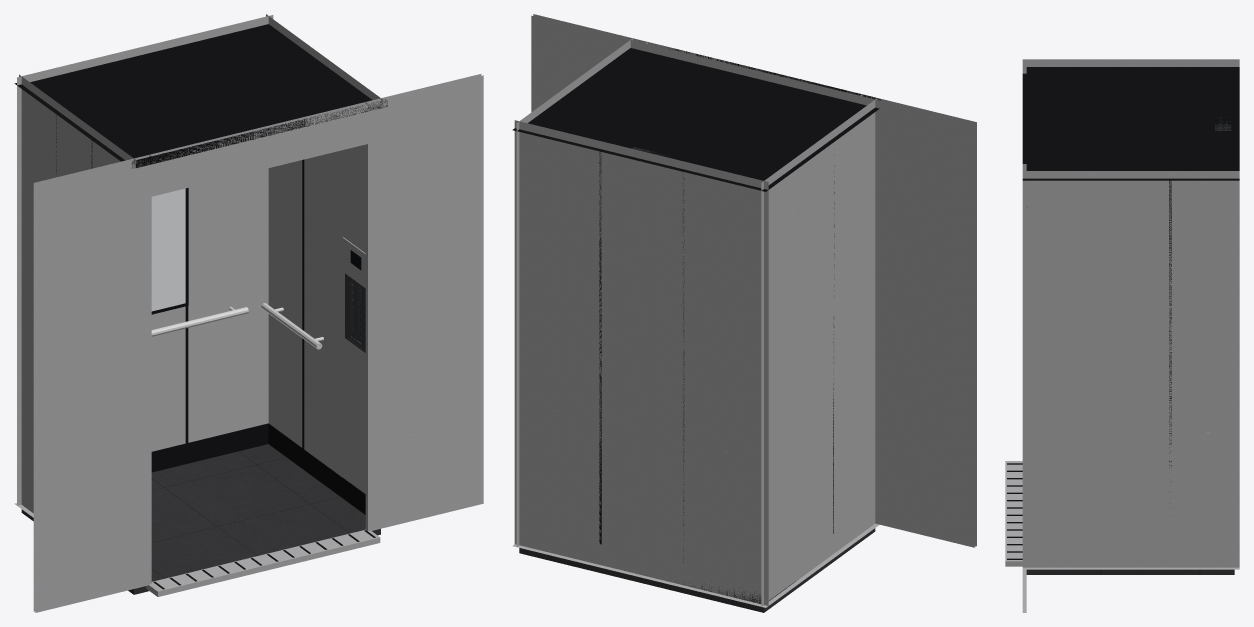
The model's file is harbor_cab_baked.glb.
3 views of the same model, side by side, from view 1: azimuth 30°, elevation 25°; view 2: azimuth 150°, elevation 25°; view 3: azimuth 270°, elevation 25° (orthographic). The views are drawn at different scales.
Parts seen in each view (by area): view 1: Elevator_Cab_Shell_Baked, Elevator_Cab_Labels_Baked; view 2: Elevator_Cab_Shell_Baked; view 3: Elevator_Cab_Shell_Baked.
Boxes of the visible parts, box(x1,y1,x2,y2) form: Elevator_Cab_Shell_Baked: box(14, 14, 483, 612); Elevator_Cab_Labels_Baked: box(345, 273, 365, 352); Elevator_Cab_Shell_Baked: box(512, 14, 976, 612); Elevator_Cab_Shell_Baked: box(1005, 59, 1239, 612).
Size of the model in its own units: 2.9 by 2.7 by 1.42.
Materials: 10 (4 with a texture image).
